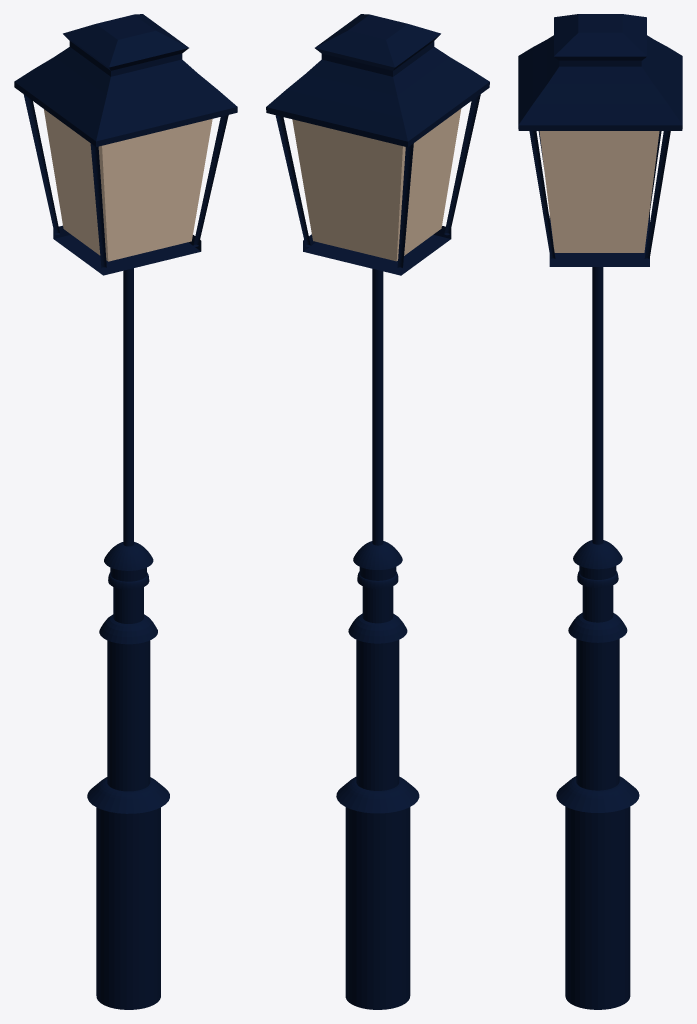
Rendered from streetlamp.glb.
3 views of the same model, side by side, from view 1: azimuth 30°, elevation 25°; view 2: azimuth 150°, elevation 25°; view 3: azimuth 270°, elevation 25° (orthographic).
Parts seen in each view (by area): view 1: Cube.001; view 2: Cube.001; view 3: Cube.001.
Part boxes in pixels (left/top/right/bottom): Cube.001: left=14, top=14, right=237, bottom=1009; Cube.001: left=266, top=14, right=489, bottom=1009; Cube.001: left=518, top=14, right=682, bottom=1009.
Bounding box in the file's own units: 0.7216 × 4.71 × 0.7216.
